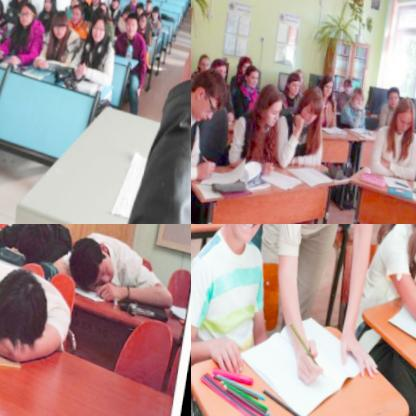head: (0, 251, 59, 349), (64, 224, 122, 292), (191, 64, 230, 125), (15, 224, 69, 265), (253, 75, 289, 130), (298, 78, 327, 124), (390, 88, 416, 128), (49, 2, 71, 38), (240, 58, 264, 90), (89, 7, 111, 41), (282, 66, 305, 98), (209, 52, 233, 80), (235, 48, 256, 76), (349, 78, 368, 106), (17, 0, 38, 24), (384, 78, 402, 105), (124, 6, 139, 31), (198, 48, 214, 69), (320, 69, 335, 91), (342, 68, 356, 91), (69, 0, 83, 22), (137, 5, 149, 25), (134, 0, 145, 11), (151, 0, 160, 13), (42, 0, 56, 8), (98, 0, 108, 10), (69, 0, 82, 4), (144, 0, 153, 5), (110, 0, 120, 4)
